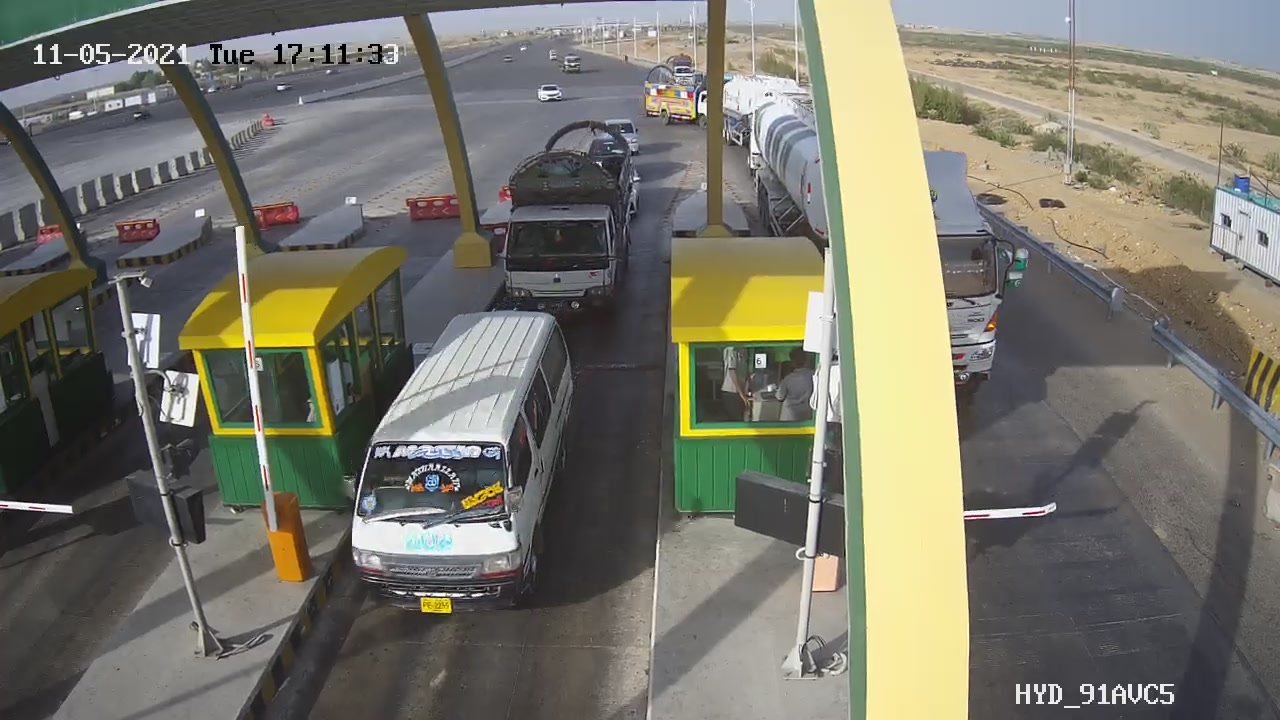F5: (478, 108, 655, 336)
